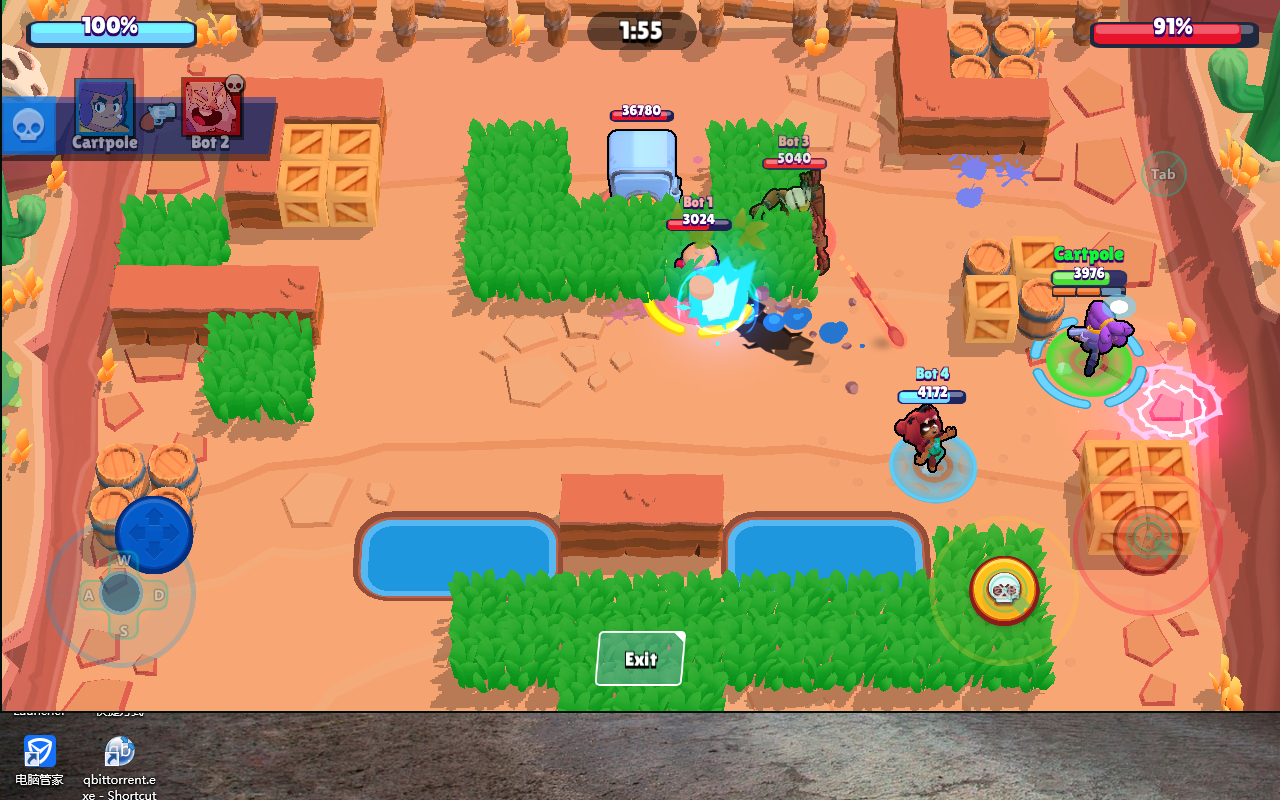current_player: (527, 342, 610, 410)
